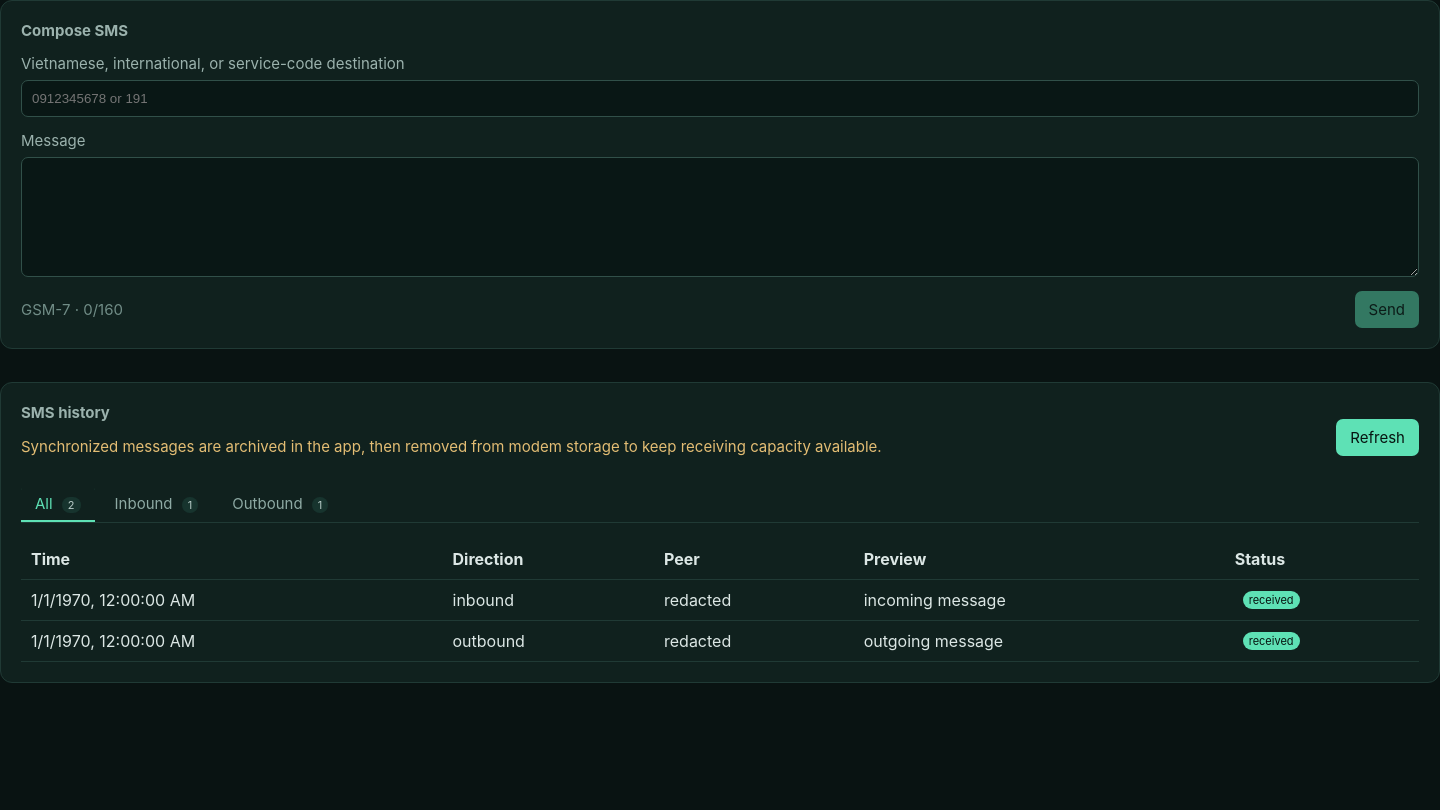
Test: SMS page › keeps the 15-second polling cadence and filters by direction
Expected: the text "incoming message" is shown, [854,580,1225,620]
Click the tab "Outbound 1" at (280, 504), box [218,485,342,522]
Wait 15000 ms
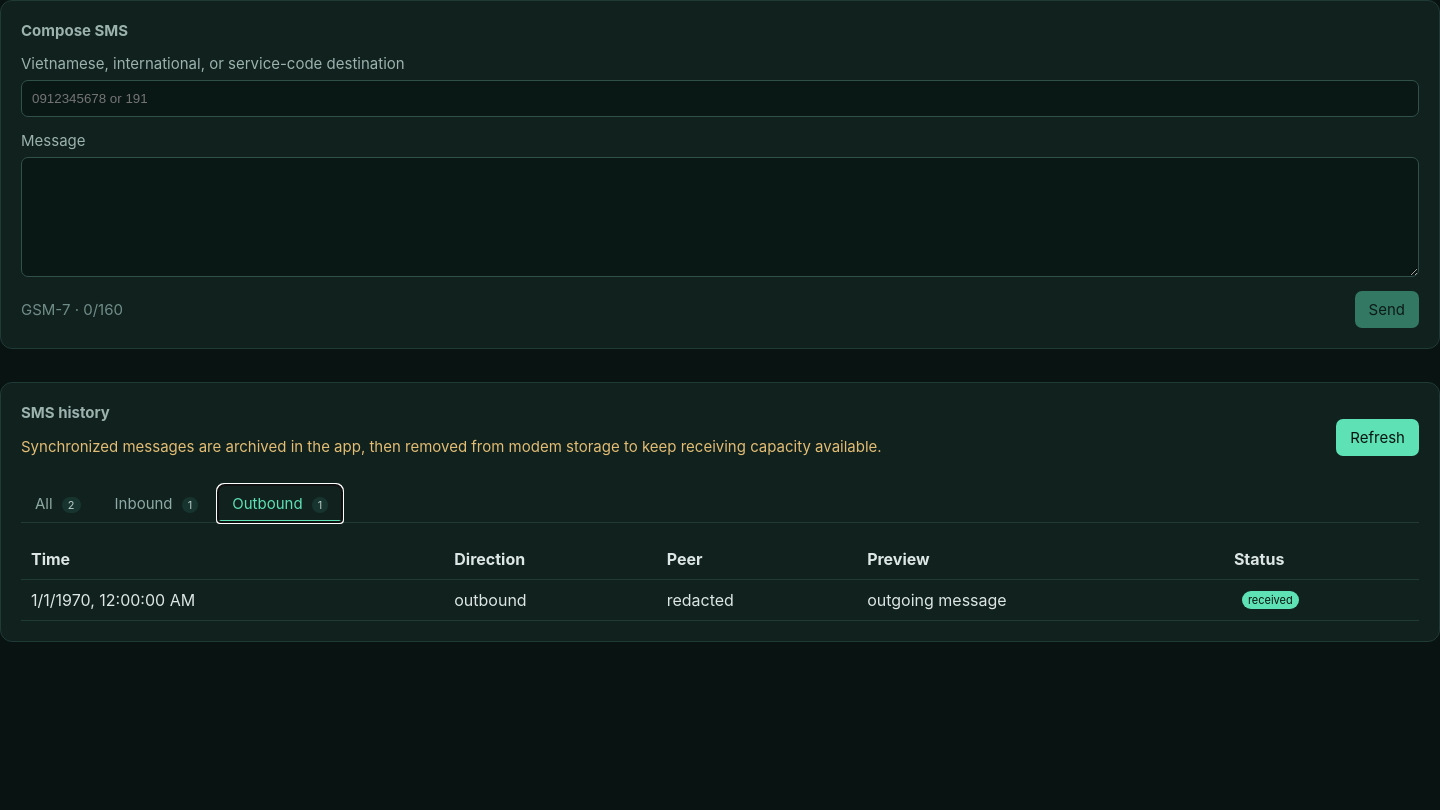
Expected: the text "outgoing message" is shown, [857,580,1224,620]
Now the text "incoming message" is gone
